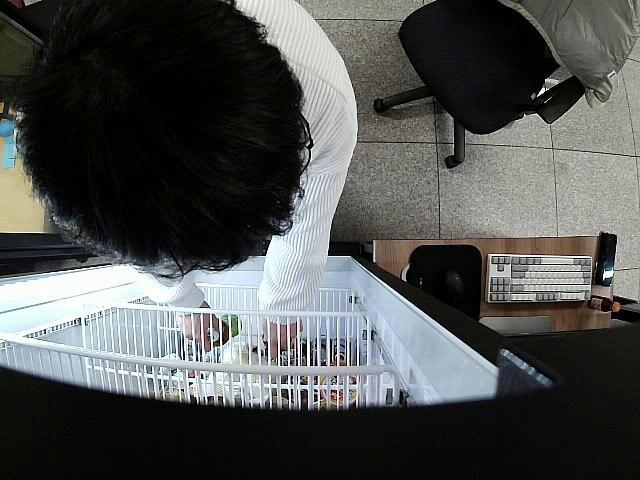19_17cha: (212, 314, 242, 346)
